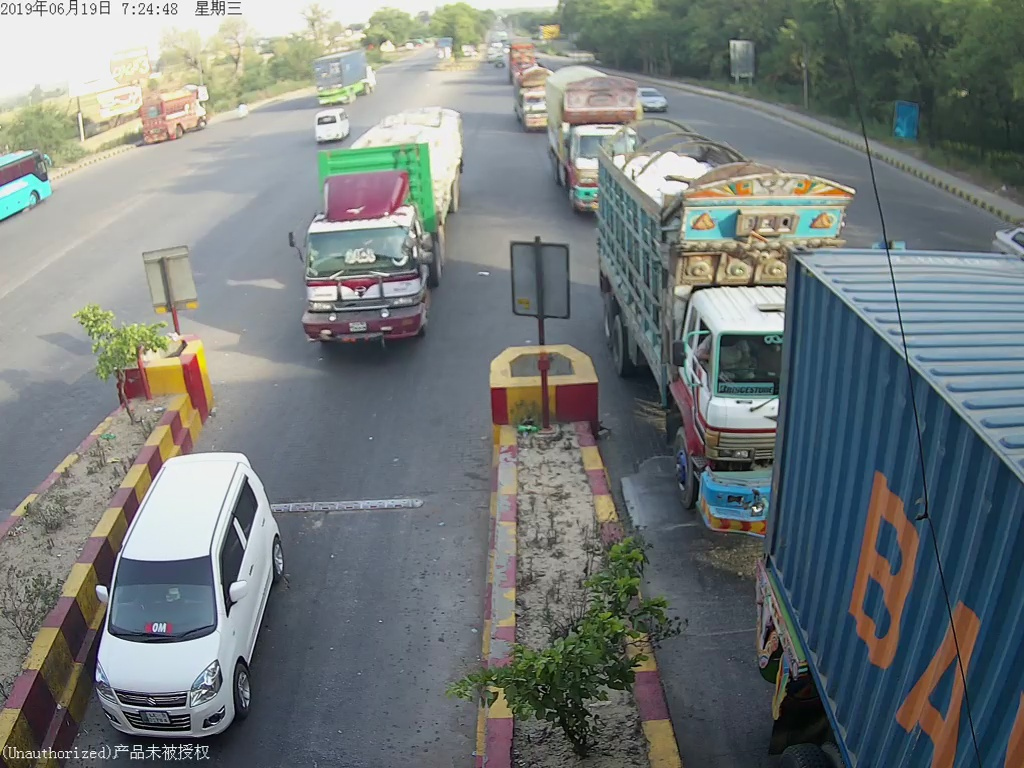Cat-1: (96, 440, 290, 740)
Cat-4: (603, 126, 759, 526)
Cat-5: (307, 116, 460, 353)
